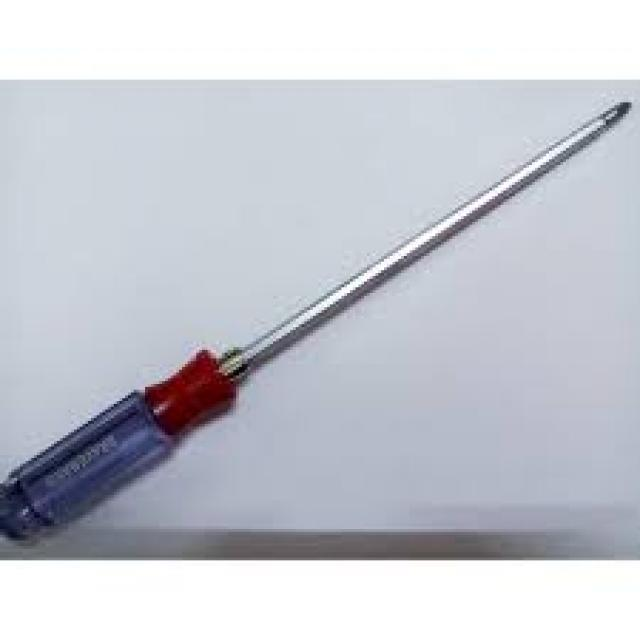screwdriver: (0, 95, 631, 547)
